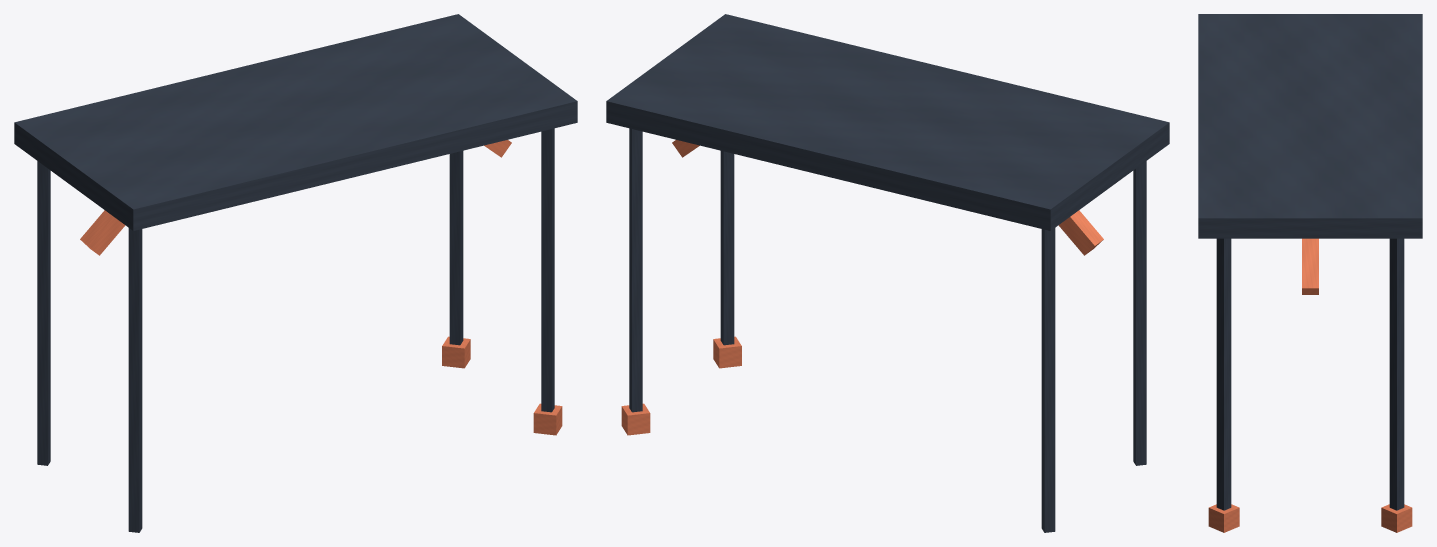
Rendered from atlas100-s021-a08.lod1.glb.
3 renders of one model, left to right at view 1: azimuth 30°, elevation 25°; view 2: azimuth 150°, elevation 25°; view 3: azimuth 270°, elevation 25°, orthographic. The views are drawn at different scales.
Parts seen in each view (by area): view 1: atlas100-s021-a08:part-010, atlas100-s021-a08:part-002, atlas100-s021-a08:part-000, atlas100-s021-a08:part-006, atlas100-s021-a08:part-004, atlas100-s021-a08:part-011, atlas100-s021-a08:part-007, atlas100-s021-a08:part-005; view 2: atlas100-s021-a08:part-010, atlas100-s021-a08:part-000, atlas100-s021-a08:part-002, atlas100-s021-a08:part-004, atlas100-s021-a08:part-006, atlas100-s021-a08:part-011, atlas100-s021-a08:part-005, atlas100-s021-a08:part-007; view 3: atlas100-s021-a08:part-010, atlas100-s021-a08:part-004, atlas100-s021-a08:part-006, atlas100-s021-a08:part-012, atlas100-s021-a08:part-005, atlas100-s021-a08:part-007.
Boxes of the visible parts, x1,y1,x2,y2 form: atlas100-s021-a08:part-010: [14, 14, 577, 230]; atlas100-s021-a08:part-002: [128, 228, 142, 532]; atlas100-s021-a08:part-000: [37, 161, 50, 465]; atlas100-s021-a08:part-006: [541, 128, 554, 412]; atlas100-s021-a08:part-004: [449, 151, 463, 345]; atlas100-s021-a08:part-011: [80, 210, 125, 255]; atlas100-s021-a08:part-007: [533, 403, 562, 435]; atlas100-s021-a08:part-005: [442, 336, 470, 368]; atlas100-s021-a08:part-010: [606, 14, 1169, 230]; atlas100-s021-a08:part-000: [1041, 228, 1055, 532]; atlas100-s021-a08:part-002: [1133, 161, 1146, 465]; atlas100-s021-a08:part-004: [629, 128, 642, 412]; atlas100-s021-a08:part-006: [720, 151, 734, 345]; atlas100-s021-a08:part-011: [1058, 210, 1103, 255]; atlas100-s021-a08:part-005: [621, 403, 650, 435]; atlas100-s021-a08:part-007: [713, 336, 741, 368]; atlas100-s021-a08:part-010: [1198, 14, 1422, 238]; atlas100-s021-a08:part-004: [1389, 238, 1404, 510]; atlas100-s021-a08:part-006: [1216, 238, 1231, 510]; atlas100-s021-a08:part-012: [1302, 238, 1318, 294]; atlas100-s021-a08:part-005: [1381, 504, 1412, 532]; atlas100-s021-a08:part-007: [1208, 504, 1239, 532].
Size of the model in its own units: 5.6 by 4.03 by 2.6.
2 materials, 2 textured.
